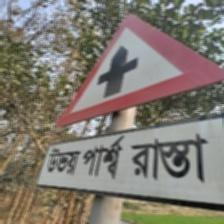Crossroad: (45, 14, 223, 220)
